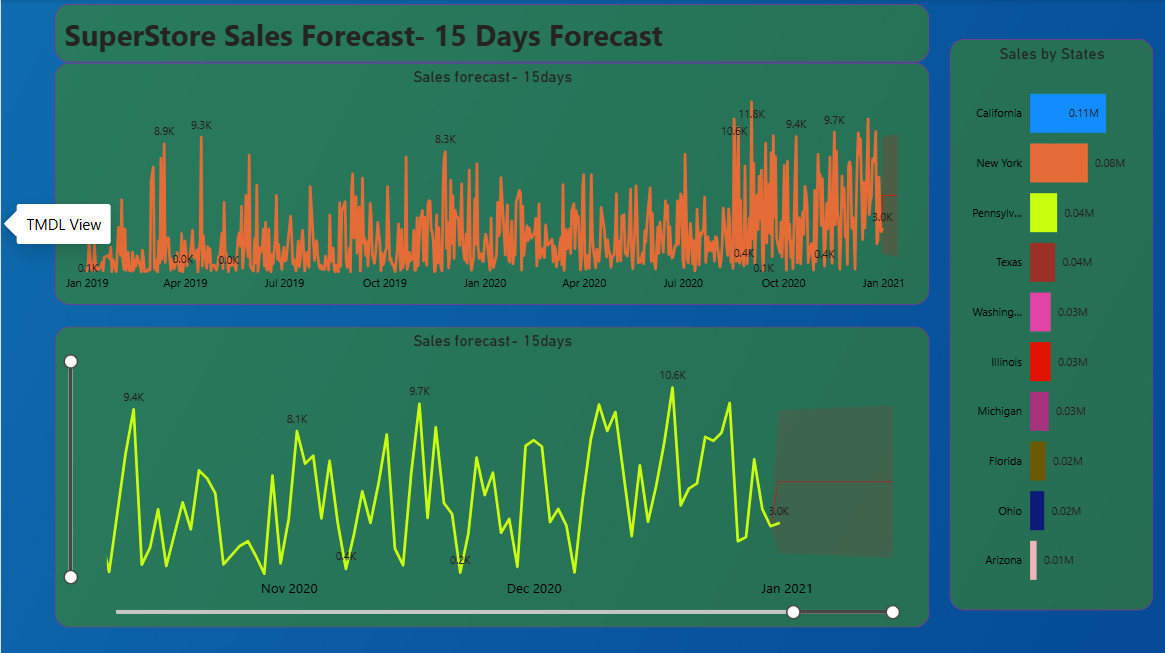

Layout of this report page (visuals, bound fields, positions):
{"tool":"powerbi","page":{"name":"Page 2","canvas":[1280,720],"ordinal":1},"visuals":[{"type":"lineChart","title":"Sales forecast- 15days","fields":{"Y":["Sum(SuperStore_Sales_Dataset.Sales)"],"Category":["SuperStore_Sales_Dataset.Order Date"]},"box":[58.6,70,960,265.7],"z":0},{"type":"lineChart","title":"Sales forecast- 15days","fields":{"Y":["Sum(SuperStore_Sales_Dataset.Sales)"],"Category":["SuperStore_Sales_Dataset.Order Date"]},"box":[58.6,360,960,330],"z":1000},{"type":"clusteredBarChart","title":"Sales by States","fields":{"Y":["Sum(SuperStore_Sales_Dataset.Sales)"],"Category":["SuperStore_Sales_Dataset.State"]},"box":[1041.4,44.3,222.9,627.1],"z":2000},{"type":"textbox","box":[58.6,5.7,960,64.3],"z":3000}]}

Visuals, with their boxes in screenshot pixels (x1, y1, x2, y2), scaled from the page's 1280x720 canvas onto the 1165x653 screenshot:
"Sales forecast- 15days" lineChart: <region>53, 63, 927, 304</region>
"Sales forecast- 15days" lineChart: <region>53, 326, 927, 626</region>
"Sales by States" clusteredBarChart: <region>948, 40, 1151, 609</region>
textbox: <region>53, 5, 927, 63</region>
